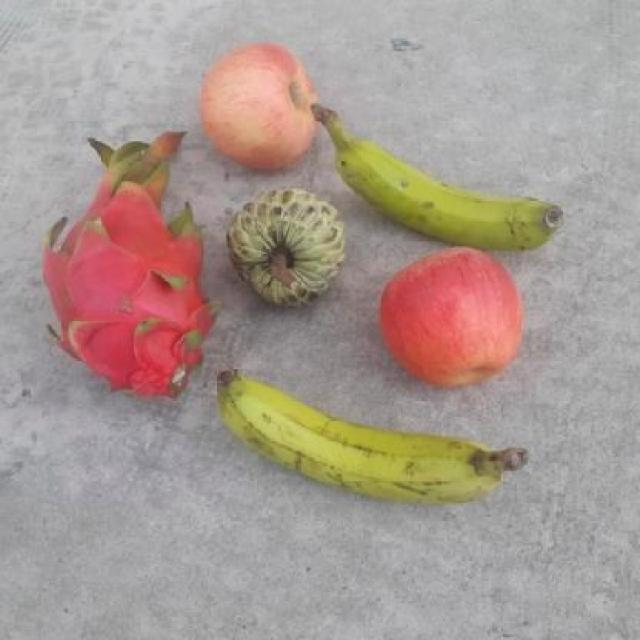apple: (379, 245, 523, 390), (197, 41, 321, 170)
banana: (216, 368, 569, 503), (303, 104, 563, 251)
dragon fruit: (36, 128, 218, 400)
sugar apple: (226, 188, 349, 310)
